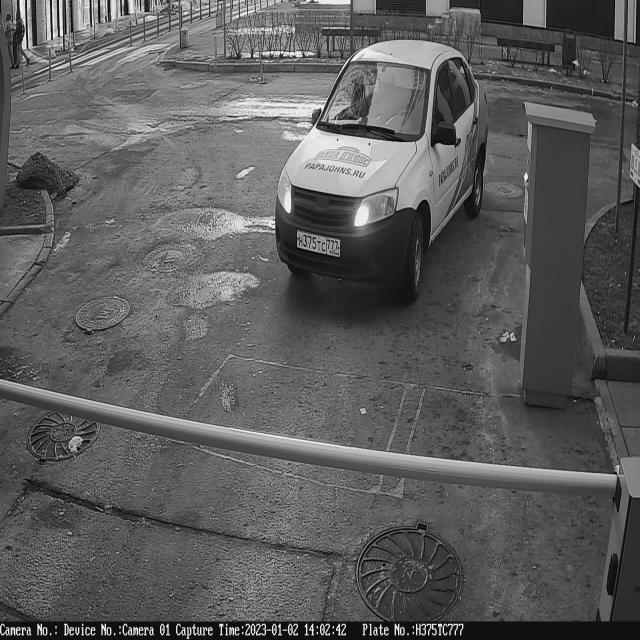car-plate-numbers: (296, 226, 344, 263)
